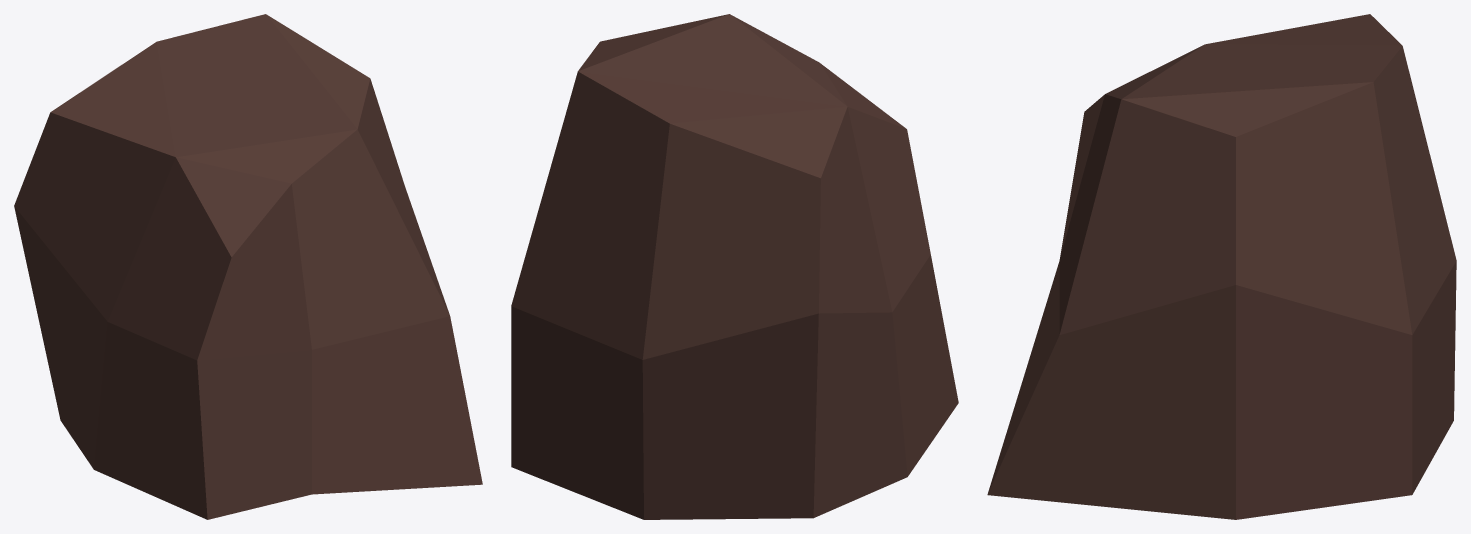
Rendered from FlatRock-A11.fbx.
3 renders of one model, left to right at view 1: azimuth 30°, elevation 25°; view 2: azimuth 150°, elevation 25°; view 3: azimuth 270°, elevation 25°, orthographic. The views are drawn at different scales.
Parts seen in each view (by area): view 1: FlatRock-A11; view 2: FlatRock-A11; view 3: FlatRock-A11.
Part boxes in pixels (x1=…): FlatRock-A11: x1=14, y1=14, x2=482, y2=519; FlatRock-A11: x1=511, y1=14, x2=958, y2=519; FlatRock-A11: x1=987, y1=14, x2=1456, y2=519.
Bounding box in the file's own units: 233 × 244 × 266.
